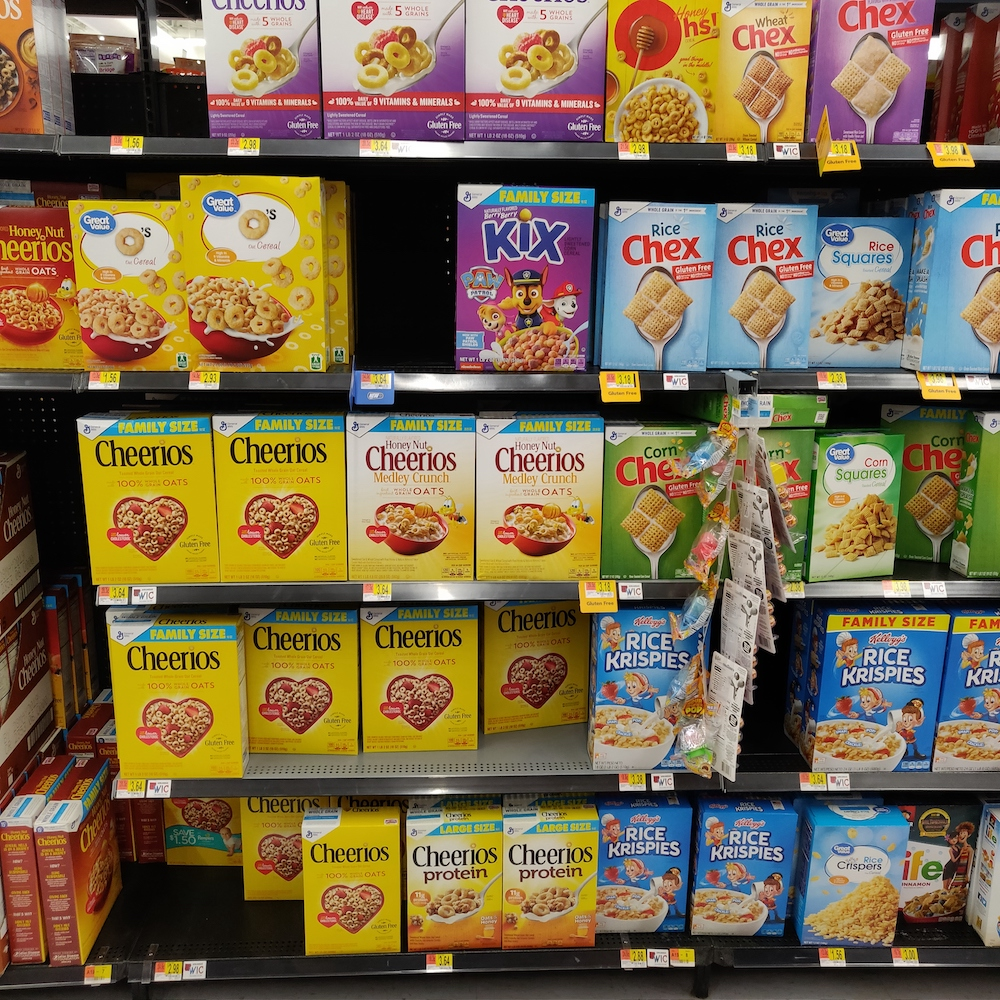Kix Berry -568919964: (456, 199, 602, 372)
